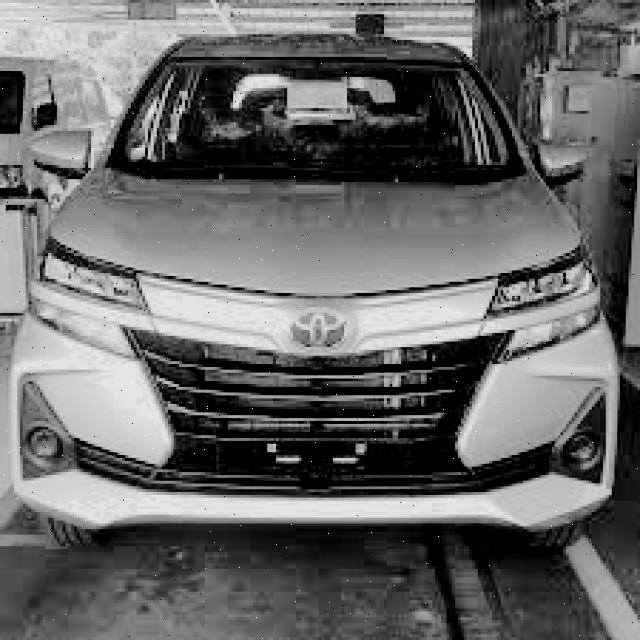Car: (4, 47, 632, 551)
